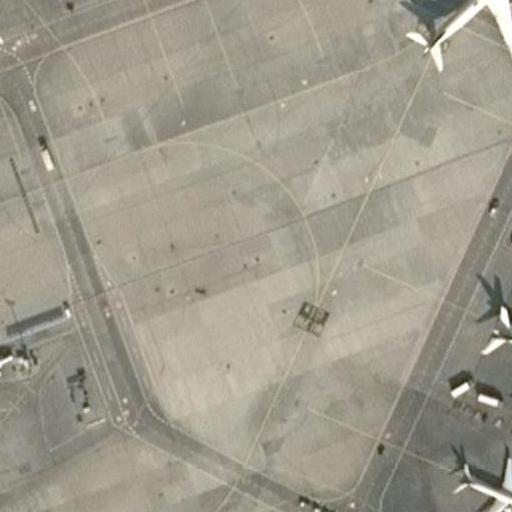Aircraft: (394, 0, 512, 78), (470, 270, 512, 420), (445, 447, 512, 512), (0, 0, 35, 65)
